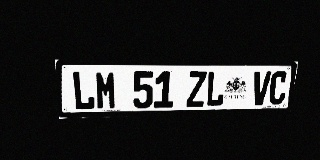1: (154, 71, 174, 108)
5: (133, 71, 154, 109)
C: (268, 71, 288, 105)
L: (72, 71, 95, 110), (205, 71, 226, 107)
M: (95, 71, 117, 110)
V: (251, 71, 271, 105)
Z: (186, 71, 207, 107)
